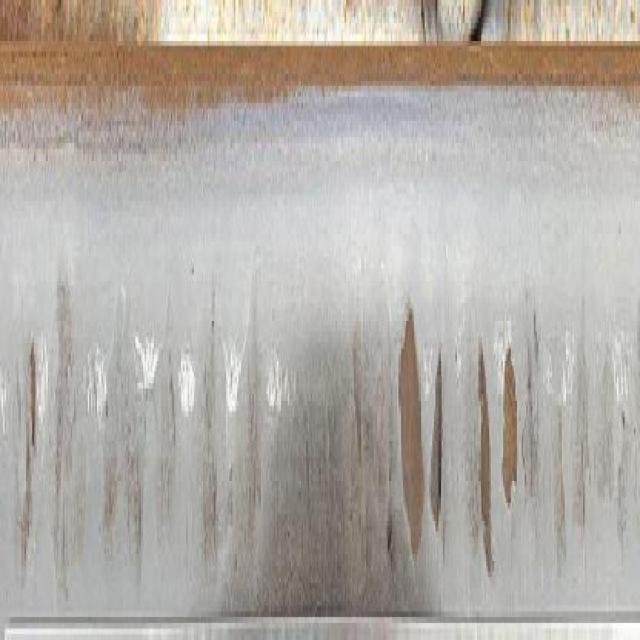defective: (0, 32, 638, 636)
